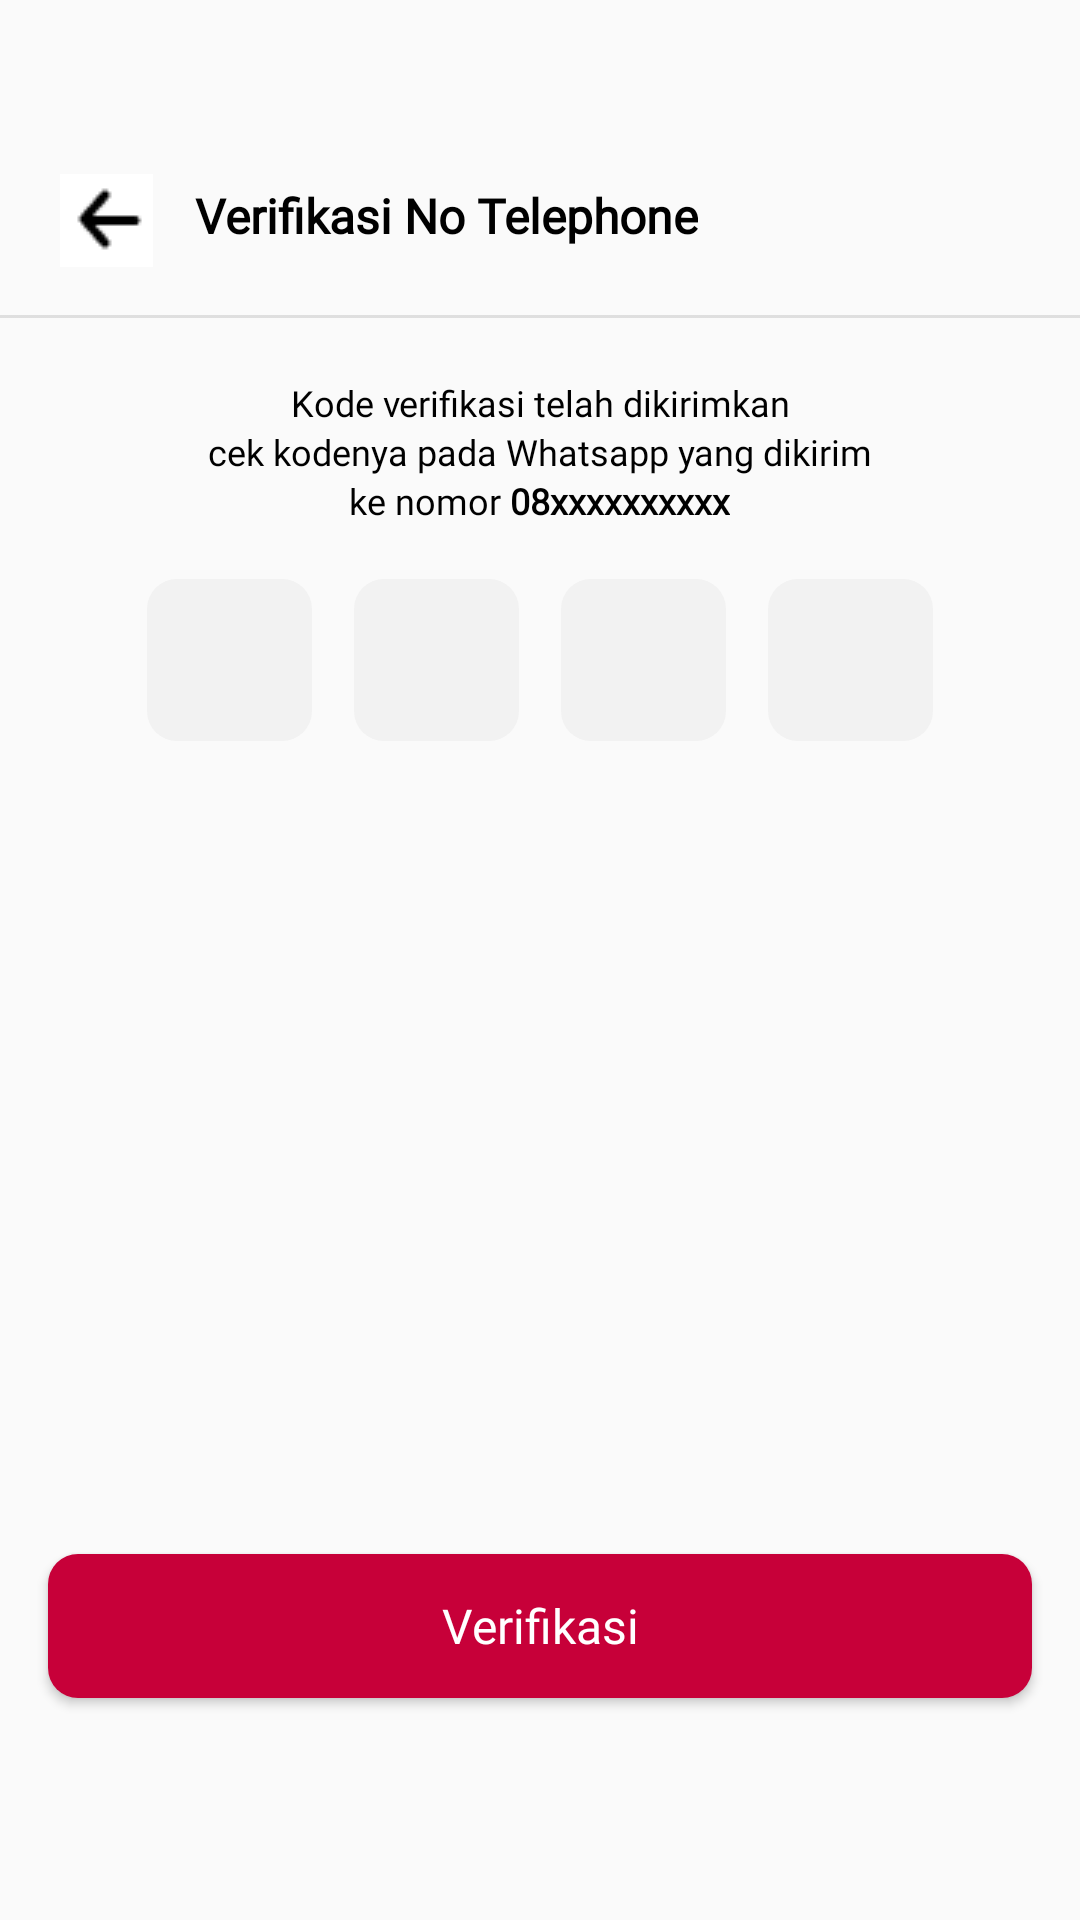

Point at icon controls on the screen. Image size 1080×1920, points as point (x, y).
back: point (109, 219)
